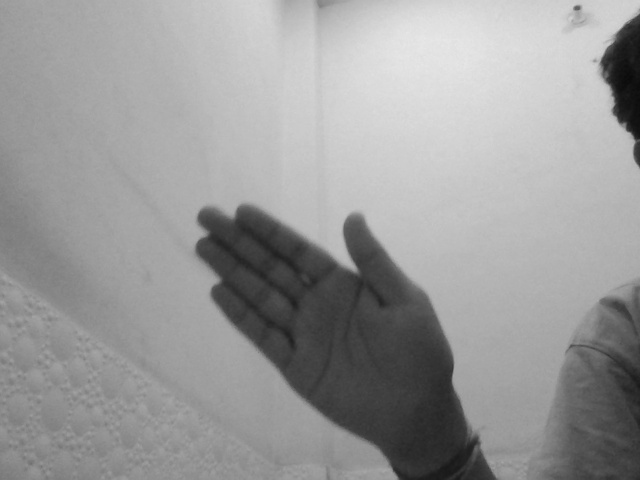Hello: (187, 199, 464, 452)
